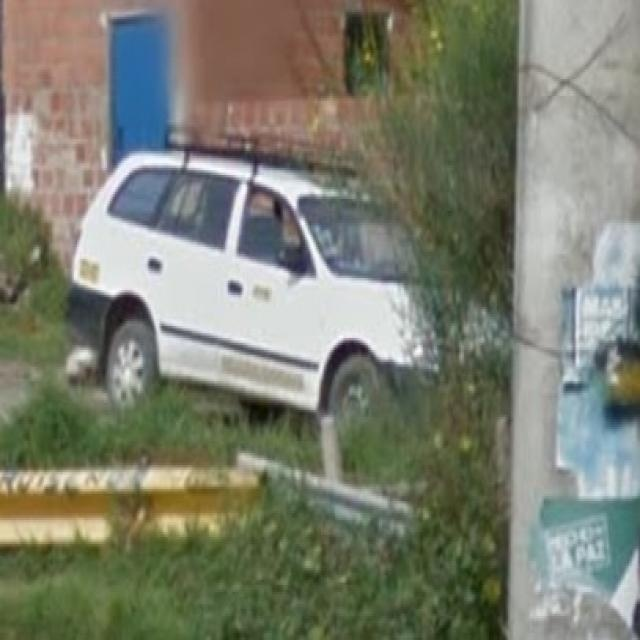Car: (72, 127, 450, 411)
